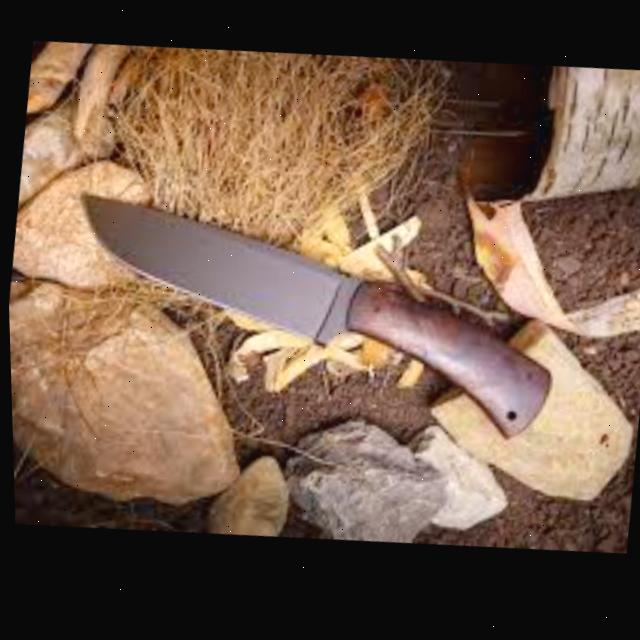Knife: (53, 162, 571, 475)
